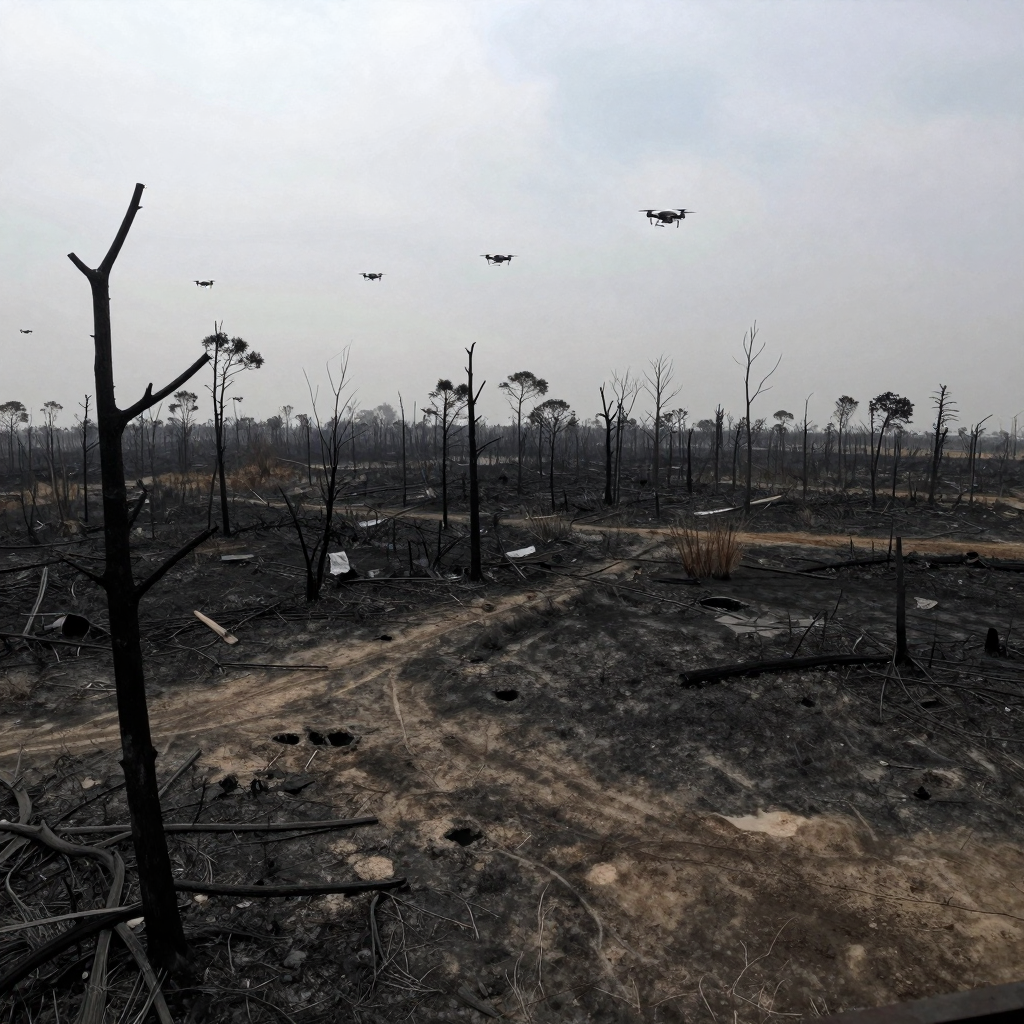drone: (638, 208, 696, 228), (479, 254, 512, 266), (358, 272, 387, 282), (192, 280, 215, 289), (20, 329, 32, 334)
